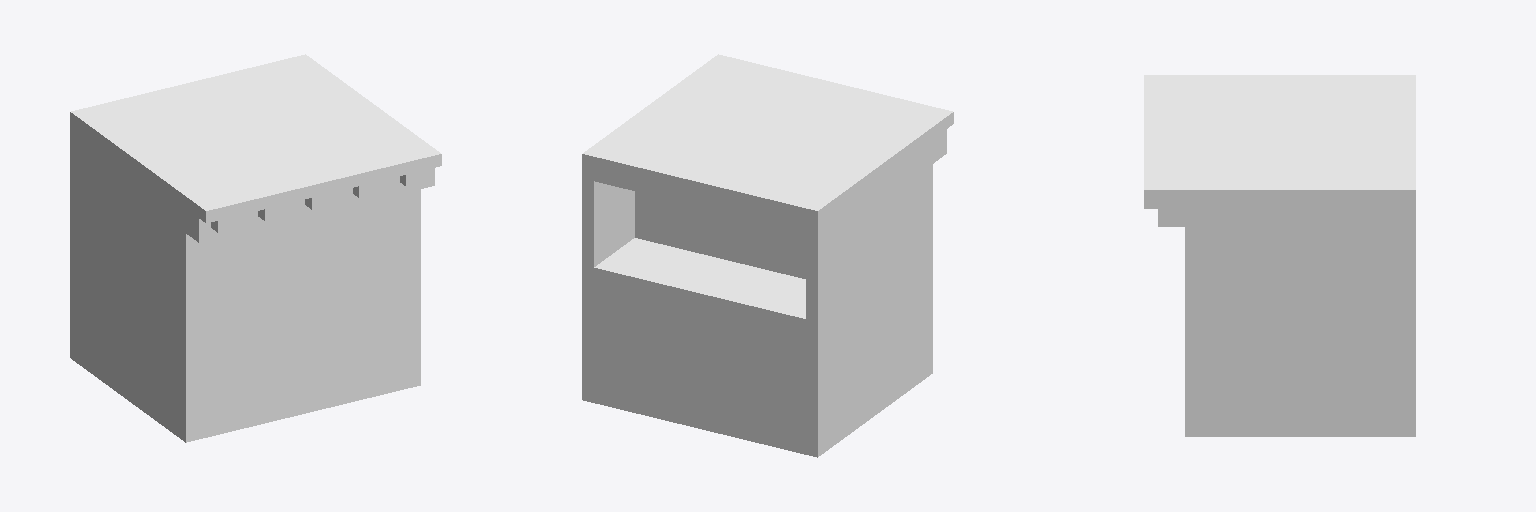
File: Counter_Straight_new.obj
3 renders of one model, left to right at view 1: azimuth 30°, elevation 25°; view 2: azimuth 150°, elevation 25°; view 3: azimuth 270°, elevation 25°, orthographic.
Visible parts, largest first — view 1: object 1; view 2: object 1; view 3: object 1.
Part boxes in pixels (x1,y1,x2,y2): object 1: (70, 54, 441, 442); object 1: (582, 54, 953, 457); object 1: (1144, 75, 1415, 436).
Size of the model in its own units: 2 by 2 by 2.